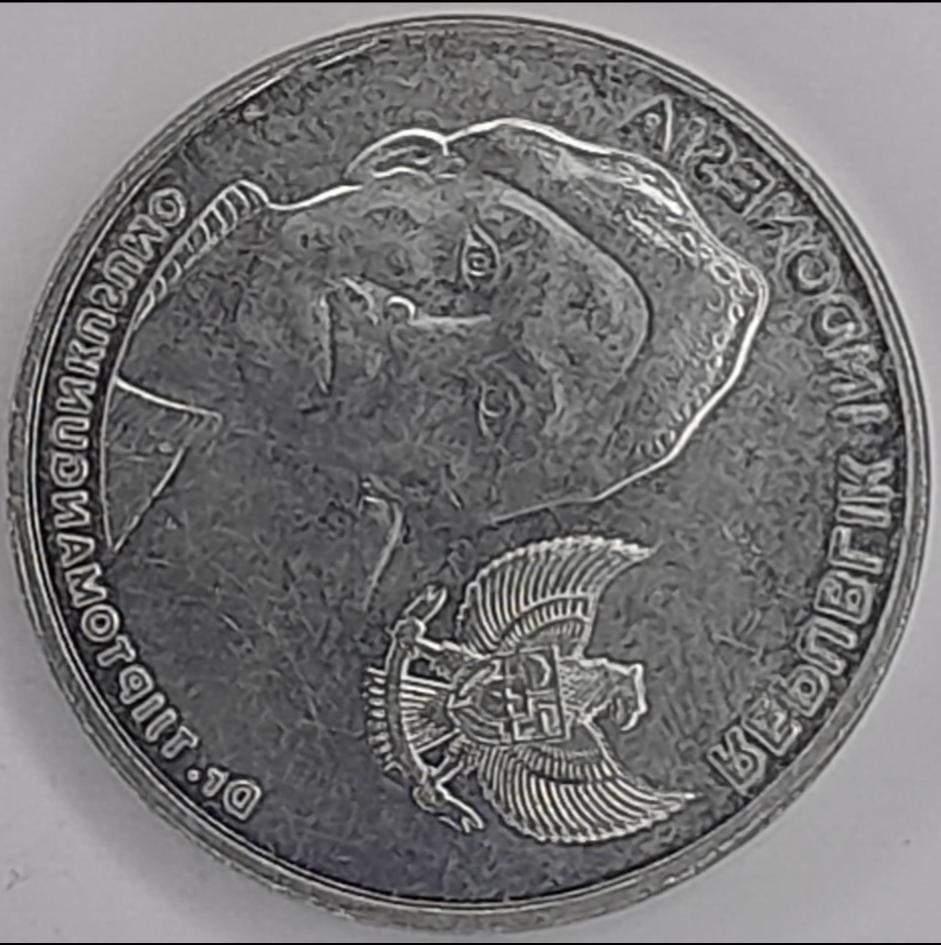coin_200_e2016: (0, 16, 941, 945)
